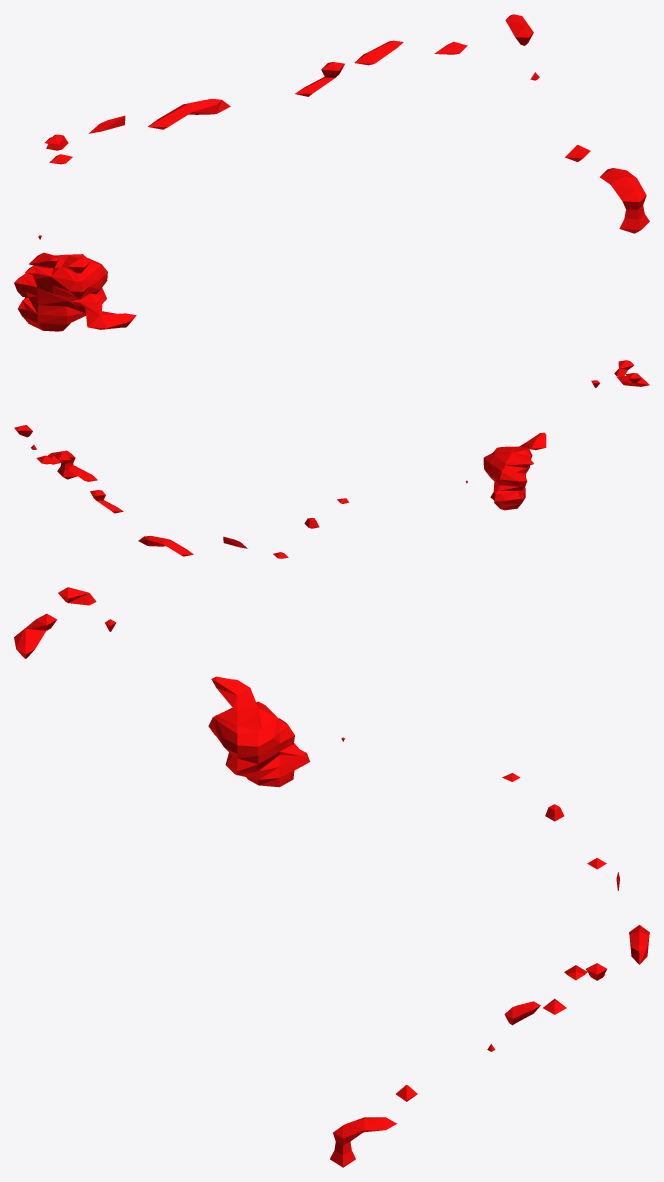
Rendered from rsxC_coarse.dae.
3 renders of one model, top to bottom at view 1: azimuth 30°, elevation 25°; view 2: azimuth 150°, elevation 25°; view 3: azimuth 270°, elevation 25°, orthographic. The views are drawn at different scales.
Parts seen in each view (by area): view 1: rsxC; view 2: rsxC; view 3: rsxC.
Boxes of the visible parts, x1,y1,x2,y2 form: rsxC: (14,14,649,331); rsxC: (14,360,649,558); rsxC: (14,587,649,1167).
Bounding box in the file's own units: 553 × 180 × 425.
